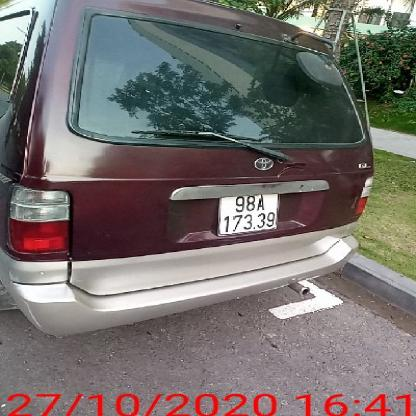biensoxe: (219, 192, 282, 238)
